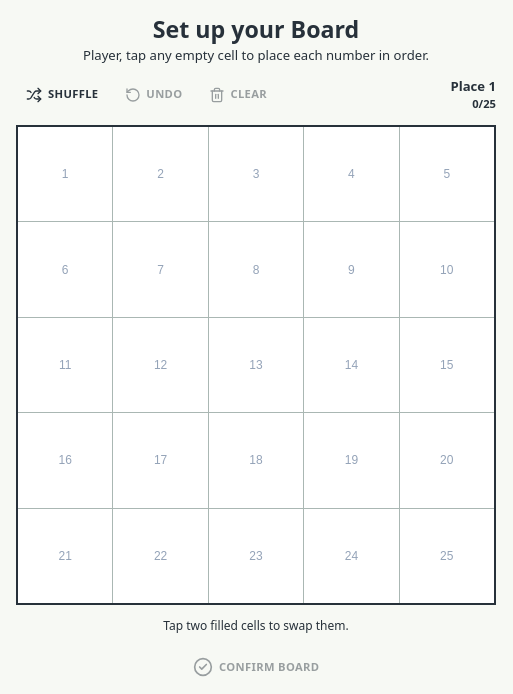
it: BingoBoardSetup › undoes placement, clear, and shuffle actions
Click the button named "Empty cell, row 1, column 1. Place 1" at (65,174), box [18, 127, 112, 221]
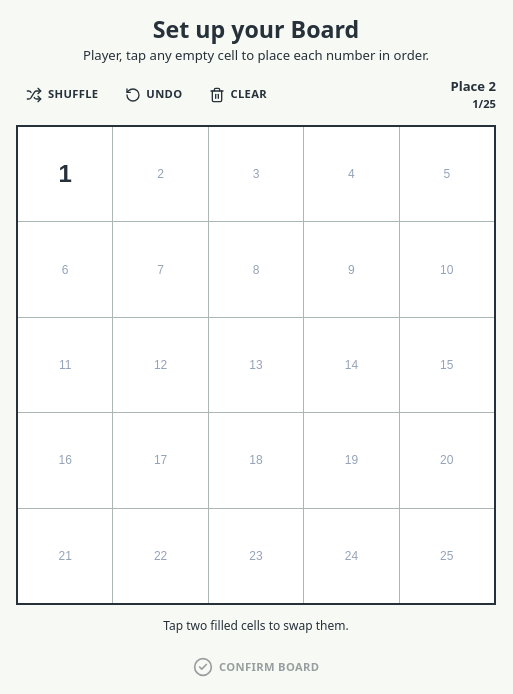
Click the button with aria-label "Undo last change" at (154,95), box [114, 77, 193, 113]
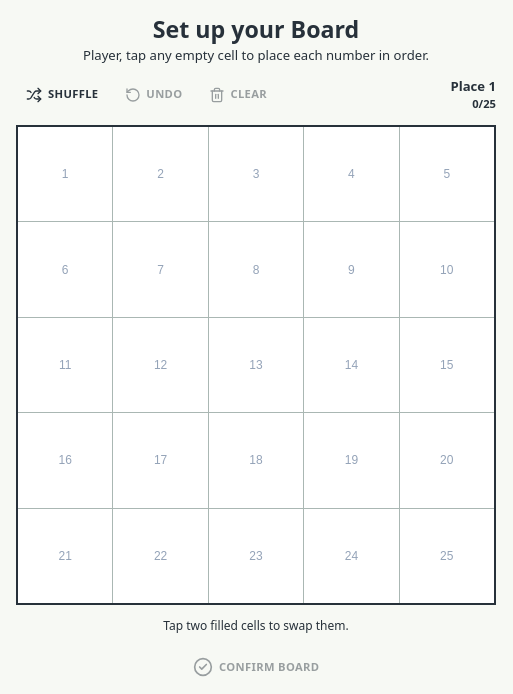
Expected: the button named "Empty cell, row 1, column 1. Place 1" is shown, [18, 127, 112, 221]
Click the button with aria-label "Shuffle board" at (62,95), box [16, 77, 109, 113]
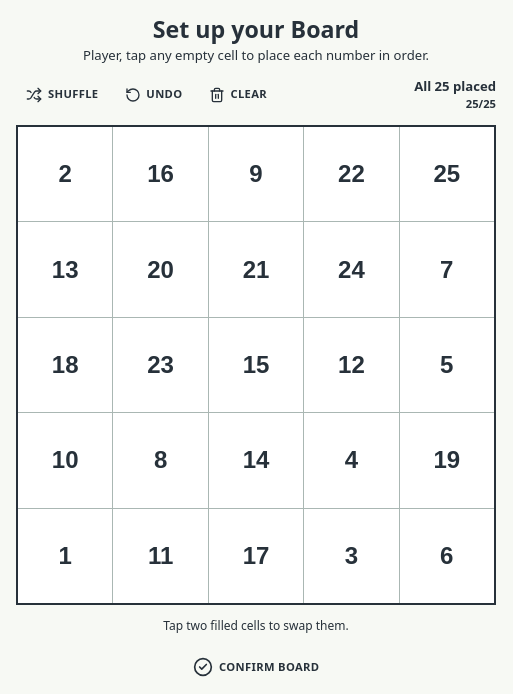
Expected: the text "All 25 placed" is shown, [414, 76, 496, 96]
Click the button with aria-label "Clear board" at (238,95), box [198, 77, 277, 113]
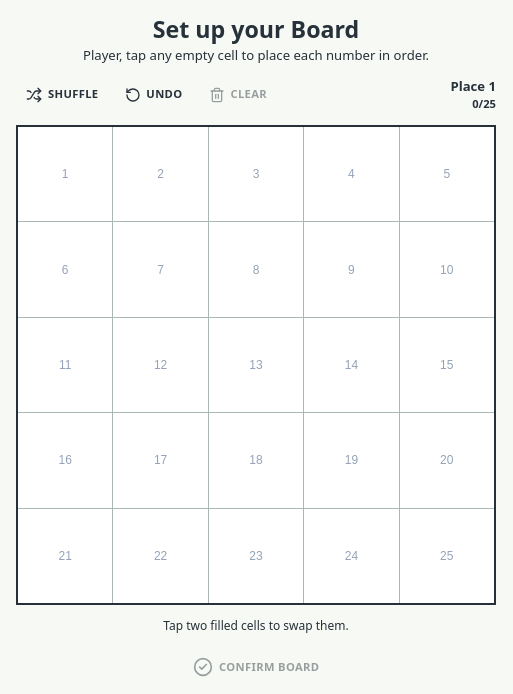
Expected: the text "Place 1" is shown, [450, 76, 496, 96]
Click the button with aria-label "Undo last change" at (154,95), box [114, 77, 193, 113]
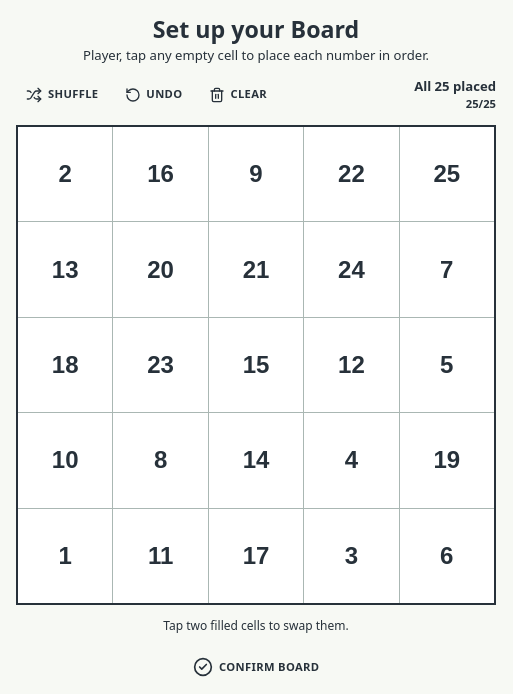
Expected: the text "All 25 placed" is shown, [414, 76, 496, 96]
